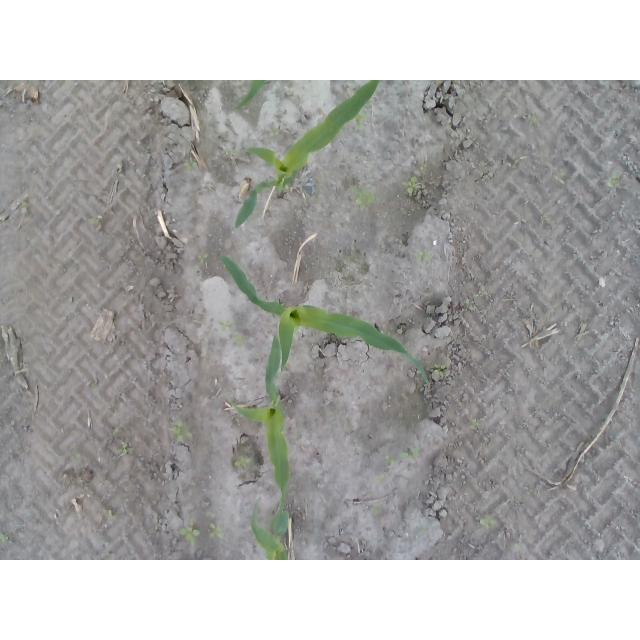Maize: (220, 254, 433, 386), (226, 81, 380, 232), (230, 331, 290, 514), (247, 509, 289, 560)
Weeds: (167, 413, 193, 444), (351, 187, 378, 210), (179, 526, 202, 545), (399, 447, 425, 461), (207, 521, 225, 541), (405, 176, 419, 193), (232, 456, 250, 469), (479, 516, 497, 528), (416, 252, 432, 265), (182, 160, 198, 173), (232, 331, 245, 345), (433, 365, 446, 376), (353, 114, 366, 125), (197, 253, 210, 264), (471, 418, 481, 431), (608, 175, 618, 186), (0, 533, 8, 542), (120, 447, 128, 454)
